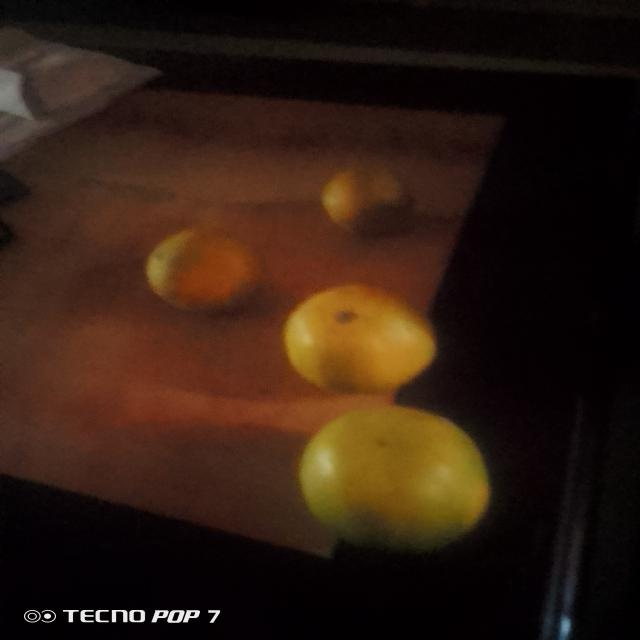agrume: (280, 408, 512, 553), (274, 281, 466, 394), (133, 225, 277, 312), (311, 159, 426, 241)
